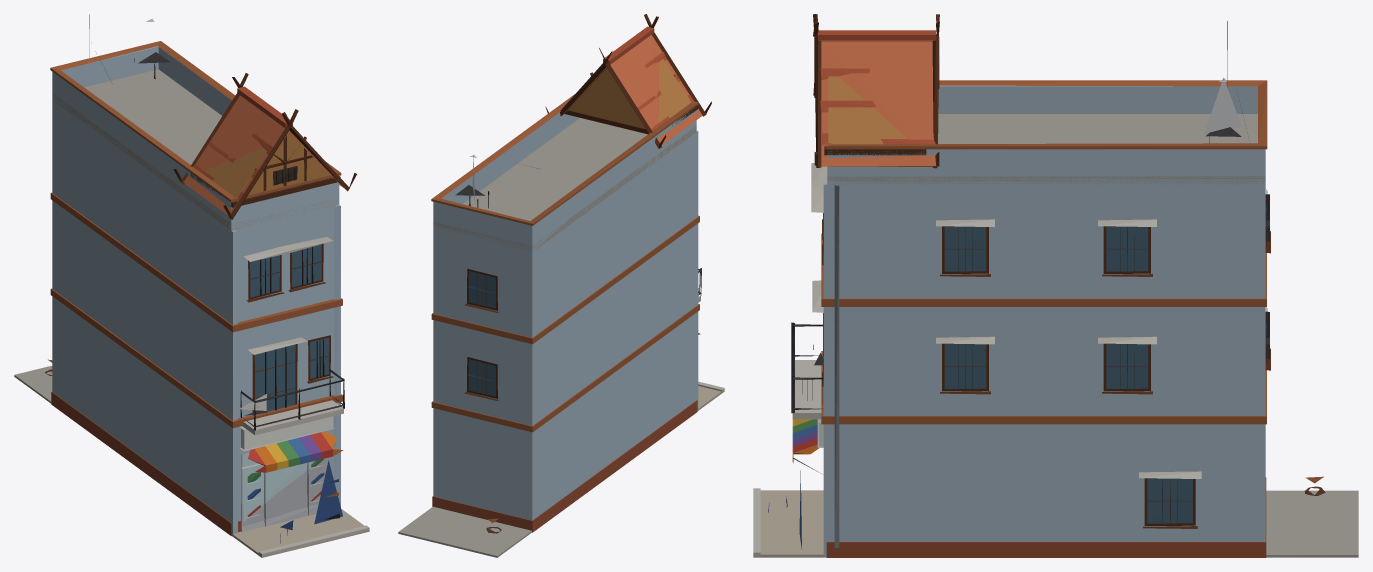
The model's file is bay2_right.glb.
The picture shows the model from 3 angles, left to right: view 1: azimuth 30°, elevation 25°; view 2: azimuth 150°, elevation 25°; view 3: azimuth 270°, elevation 25°; orthographic projection. The views are drawn at different scales.
Parts seen in each view (by area): view 1: body, windows; view 2: body, windows; view 3: body, windows.
Part boxes in pixels (x1,y1,x2,y2): body: [14, 14, 369, 557]; windows: [250, 166, 329, 414]; body: [398, 14, 724, 557]; windows: [468, 271, 495, 396]; body: [753, 14, 1358, 557]; windows: [944, 191, 1267, 523].
Size of the model in its own units: 4.95 by 14.83 by 15.9.
